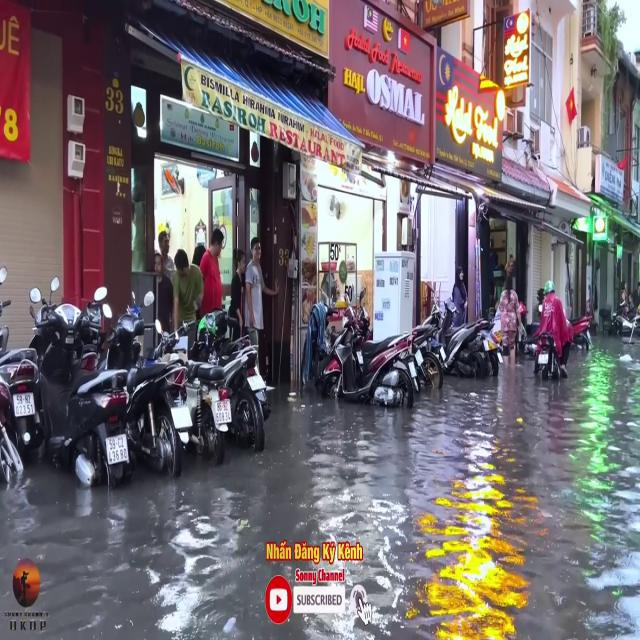bien_trang: (102, 432, 130, 466), (11, 386, 36, 420), (212, 400, 235, 428)
